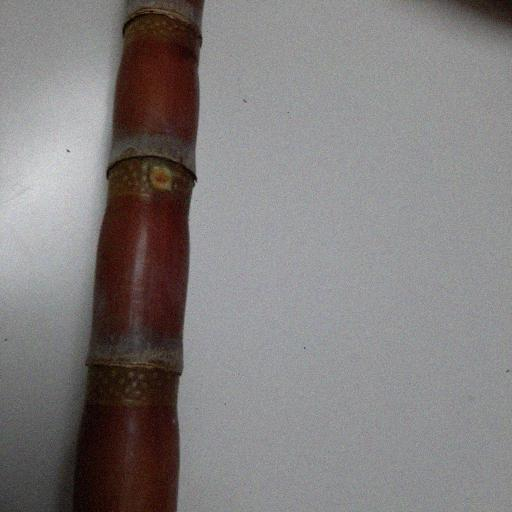Damage_Bud: (148, 163, 176, 193)
